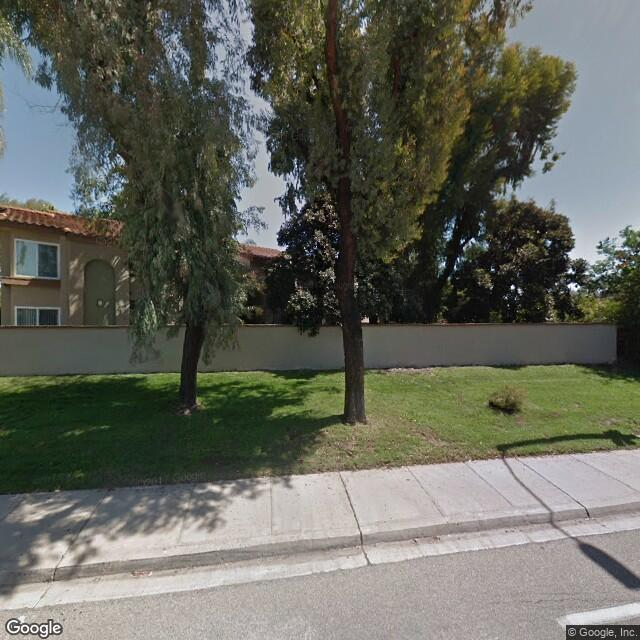litter: (182, 406, 196, 415), (478, 440, 487, 447), (55, 485, 61, 494)
